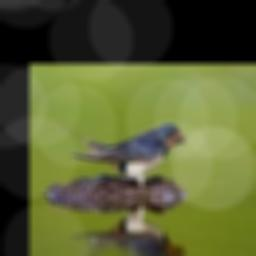Swallow: (53, 122, 184, 188)
